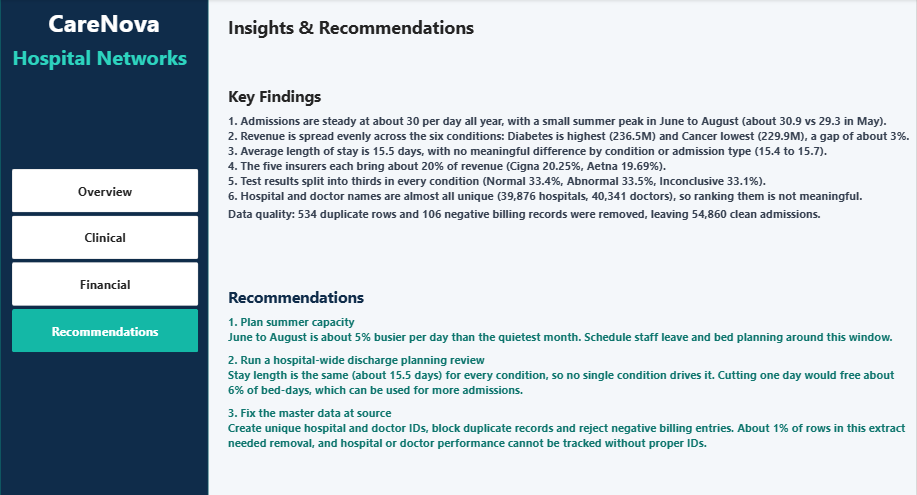

The dashboard page shown, as its layout file describes it:
{"tool":"powerbi","page":{"name":"Recommendations","canvas":[2200,1200],"ordinal":3},"visuals":[{"type":"shape","box":[0,0,500,1200],"z":3000},{"type":"textbox","box":[0,17.5,500,87.5],"z":4000},{"type":"textbox","box":[0,105,477.5,65],"z":5000},{"type":"textbox","box":[547.5,37.5,612.5,67.5],"z":6000},{"type":"pageNavigator","box":[28.9,407.9,447.4,442.1],"z":7000},{"type":"textbox","box":[547.4,205.3,1652.6,423.7],"z":8000},{"type":"textbox","box":[547.4,689.5,1628.9,478.9],"z":9000}]}

Visuals, with their boxes in screenshot pixels (x1, y1, x2, y2), scaled from the page's 2200x1200 canvas onto the 917x495 screenshot:
shape: (0, 0, 208, 494)
textbox: (0, 7, 208, 43)
textbox: (0, 43, 199, 70)
textbox: (228, 15, 484, 43)
pageNavigator: (12, 168, 199, 351)
textbox: (228, 85, 916, 259)
textbox: (228, 284, 907, 482)
